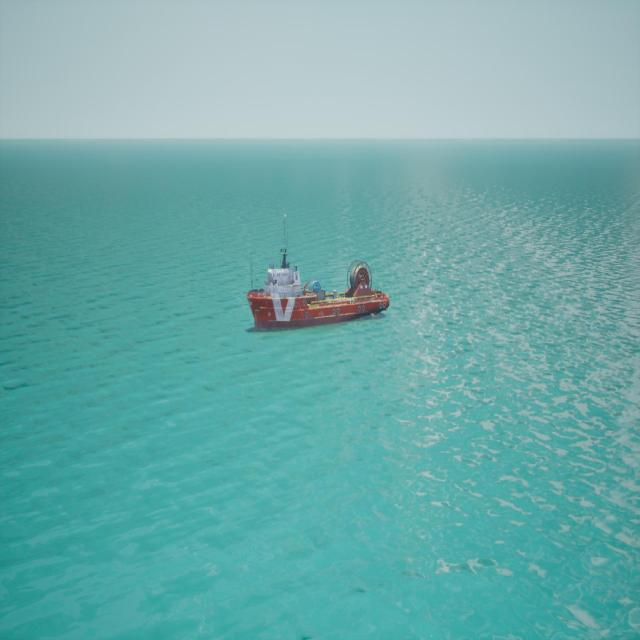tug boat: (245, 216, 391, 338)
